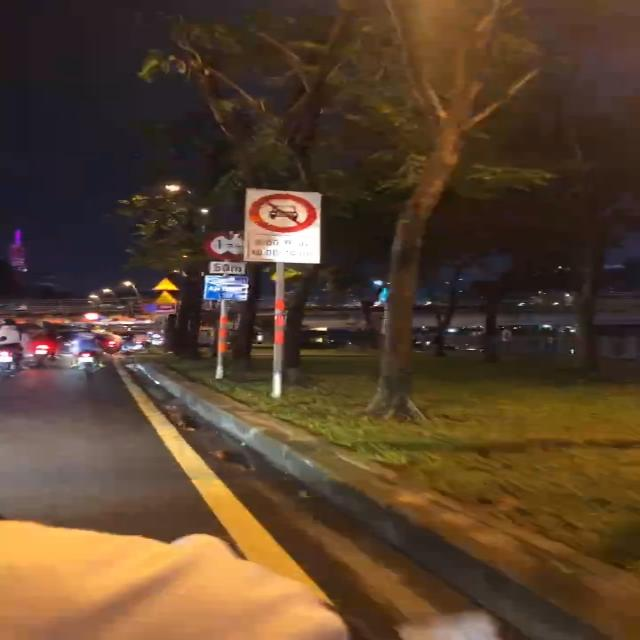Bien bao cam xe oto: (245, 188, 327, 234)
